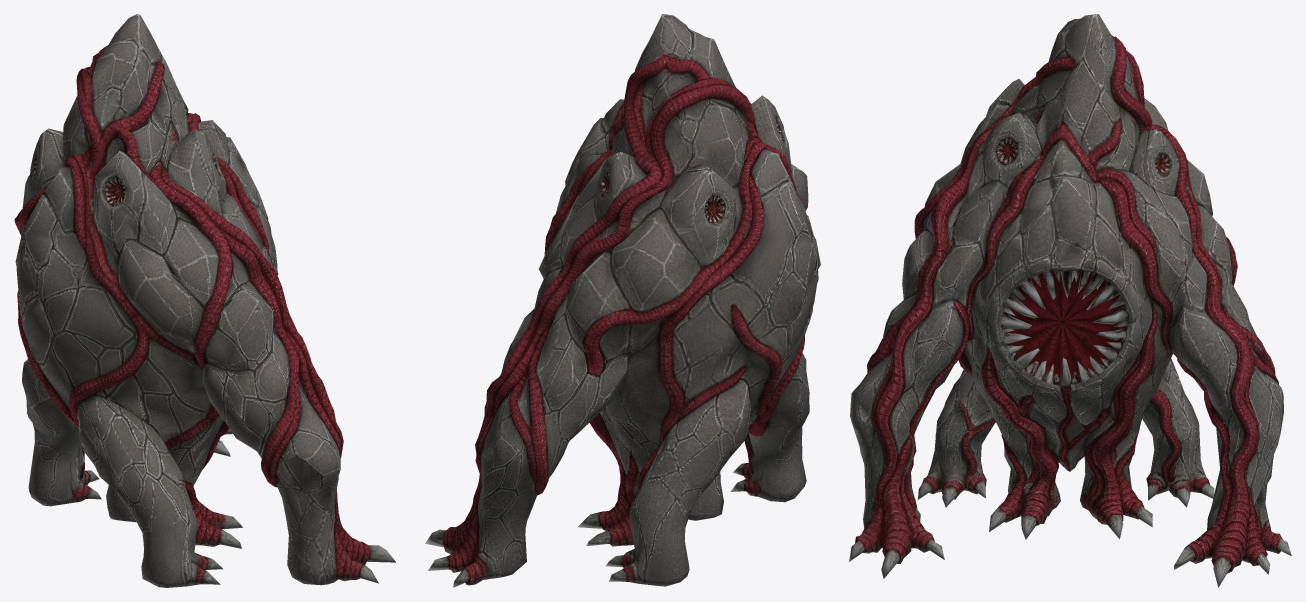
File: NemiMountain.glb
3 renders of one model, left to right at view 1: azimuth 30°, elevation 25°; view 2: azimuth 150°, elevation 25°; view 3: azimuth 270°, elevation 25°, orthographic. The views are drawn at different scales.
Parts seen in each view (by area): view 1: tripo_node_38d1c193-5030-4b22-9357-b36669802f7b; view 2: tripo_node_38d1c193-5030-4b22-9357-b36669802f7b; view 3: tripo_node_38d1c193-5030-4b22-9357-b36669802f7b.
Part boxes in pixels (x1,y1,x2,y2): tripo_node_38d1c193-5030-4b22-9357-b36669802f7b: (14, 14, 395, 587); tripo_node_38d1c193-5030-4b22-9357-b36669802f7b: (425, 14, 820, 587); tripo_node_38d1c193-5030-4b22-9357-b36669802f7b: (849, 14, 1291, 587).
Bounding box in the file's own units: 0.5995 × 0.9811 × 0.7947.
Materials: 1 (1 with a texture image).
